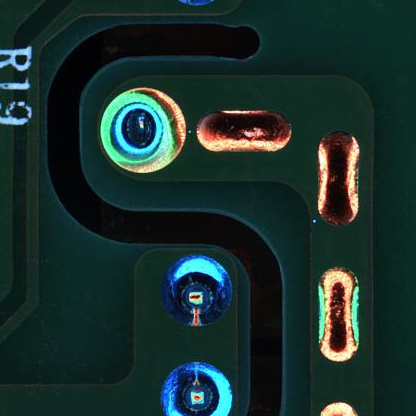spot: (92, 81, 190, 181), (155, 252, 237, 333)
